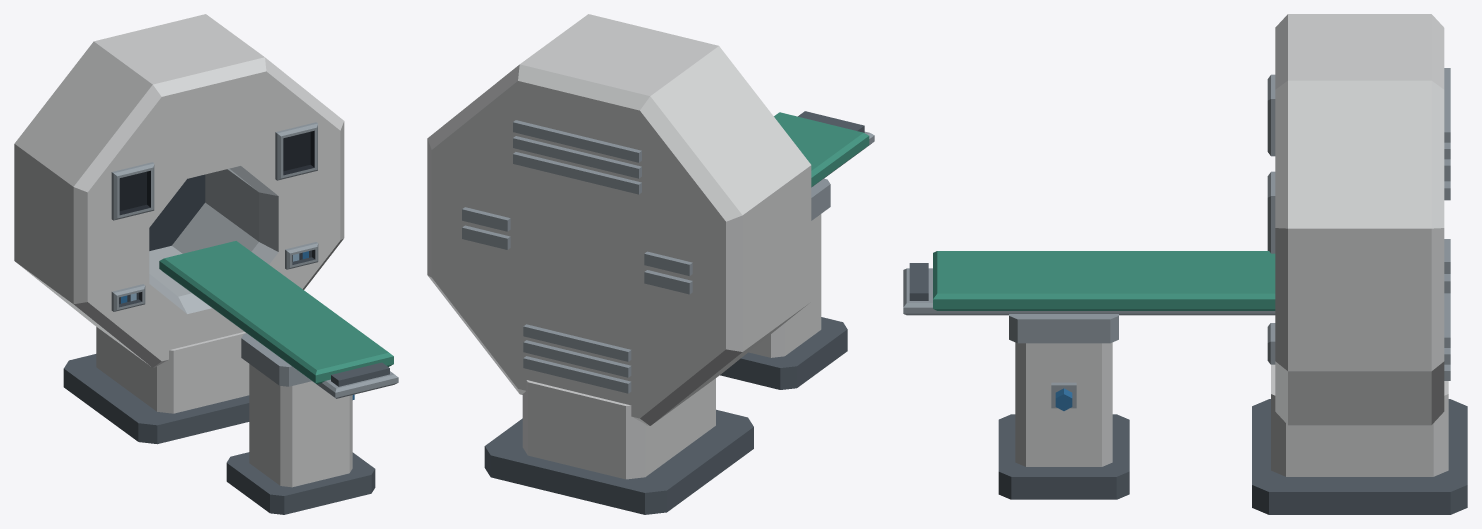
File: ct-scanner-gantry-2032b8.glb
3 renders of one model, left to right at view 1: azimuth 30°, elevation 25°; view 2: azimuth 150°, elevation 25°; view 3: azimuth 270°, elevation 25°, orthographic. The views are drawn at different scales.
Visible parts, largest first — view 1: gantry-body, couch-mattress, couch-tray; view 2: gantry-body, couch-mattress, couch-tray; view 3: gantry-body, couch-mattress, couch-tray.
Part boxes in pixels (x1,y1,x2,y2): gantry-body: (14,14,375,514); couch-mattress: (159,241,393,384); couch-tray: (162,271,398,398); gantry-body: (427,14,847,514); couch-mattress: (774,112,869,187); couch-tray: (798,111,874,186); gantry-body: (998,14,1467,514); couch-mattress: (933,251,1275,310); couch-tray: (903,263,1275,315).
Bounding box in the file's own units: 1.8 × 2.2 × 2.67.
